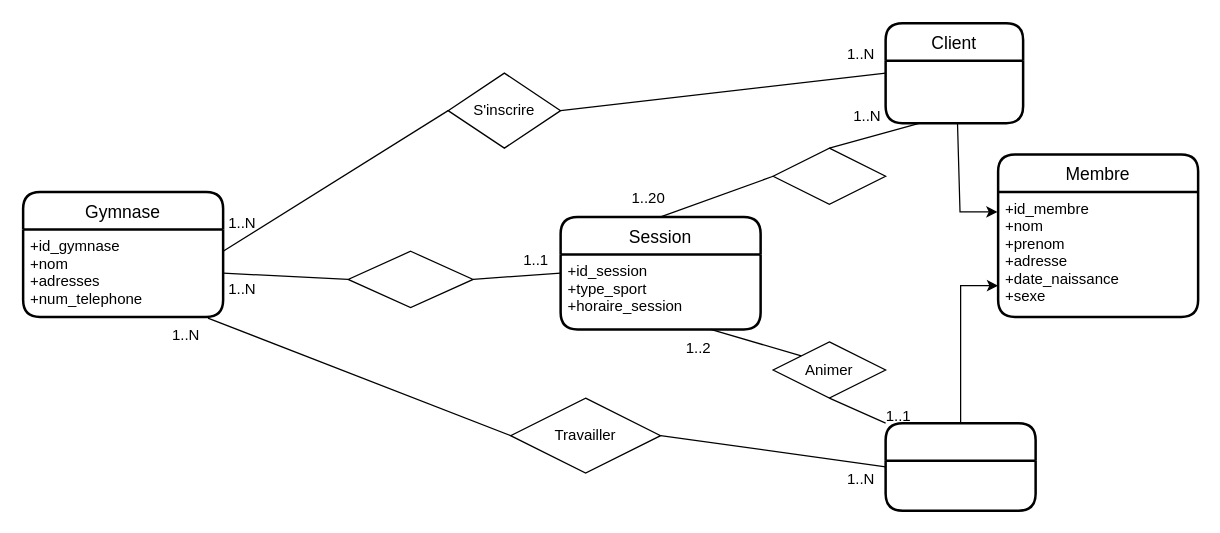
Some shapes in this 1220 by 533 pixel diagram are drawn without their labels. Each missing label, with the centre of its shape:
Coach: point 960,466
Organiser: point 410,279
Participer: point 829,175
